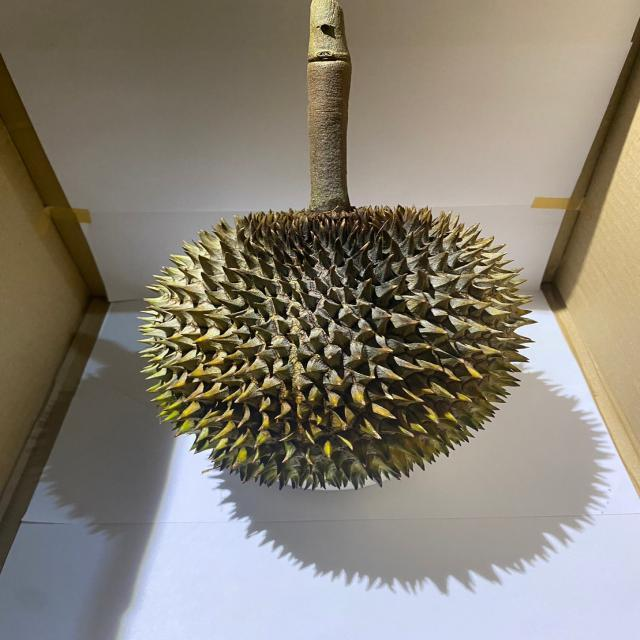immature: (136, 200, 538, 494)
